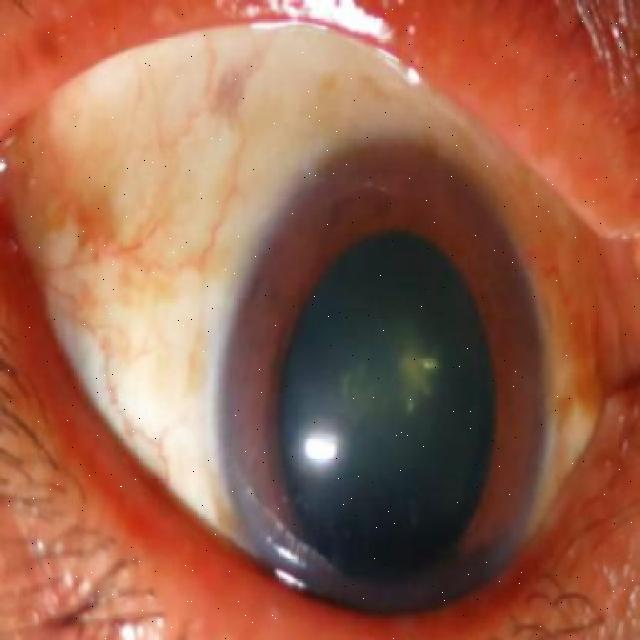Cataract: (220, 136, 550, 632)
